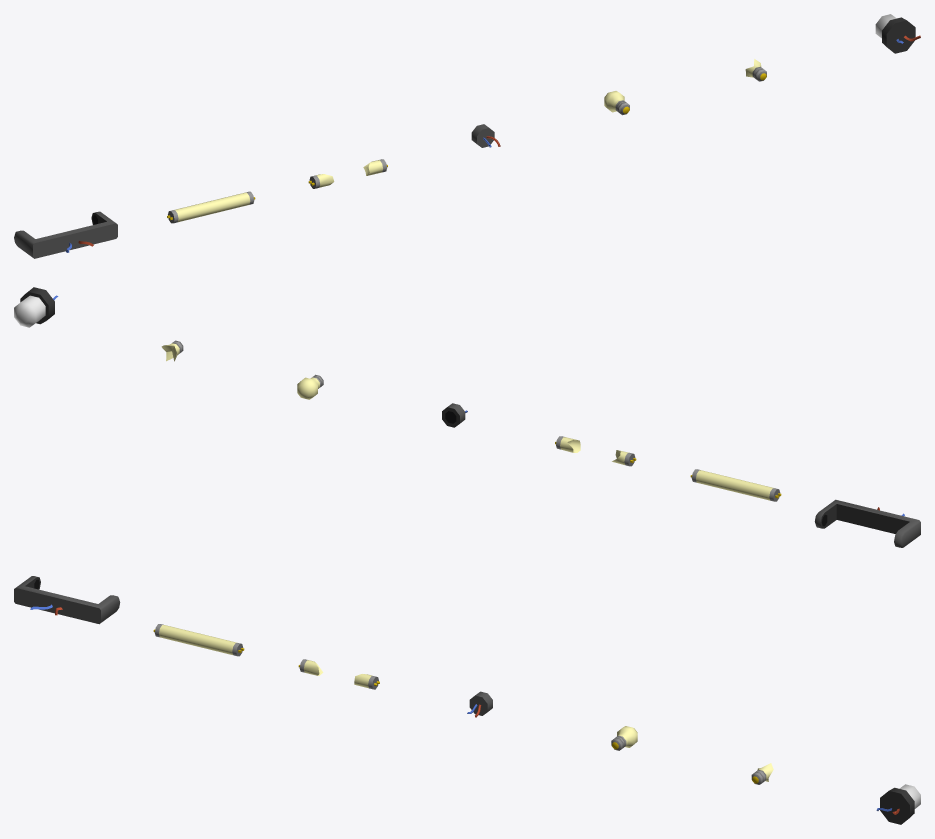
Rendered from light frames and bulbs.fbx.
3 views of the same model, one above another, from view 1: azimuth 30°, elevation 25°; view 2: azimuth 150°, elevation 25°; view 3: azimuth 330°, elevation 25° (orthographic). The views are drawn at different scales.
Parts seen in each view (by area): view 1: Light Tube Frame, Light Tube, Alarm Siren Frame; view 2: Light Tube Frame, Light Tube, Alarm Siren Frame; view 3: Light Tube Frame, Light Tube, Alarm Siren Frame.
Boxes of the visible parts, x1=… form: Light Tube Frame: x1=14, y1=211, x2=117, y2=258; Light Tube: x1=167, y1=191, x2=255, y2=223; Alarm Siren Frame: x1=875, y1=14, x2=920, y2=53; Light Tube Frame: x1=814, y1=499, x2=920, y2=547; Light Tube: x1=690, y1=469, x2=781, y2=501; Alarm Siren Frame: x1=14, y1=287, x2=58, y2=327; Light Tube Frame: x1=14, y1=576, x2=120, y2=624; Light Tube: x1=153, y1=624, x2=244, y2=656; Alarm Siren Frame: x1=876, y1=784, x2=920, y2=824.
Bounding box in the file's own units: 6.42 × 0.2158 × 0.4194.
